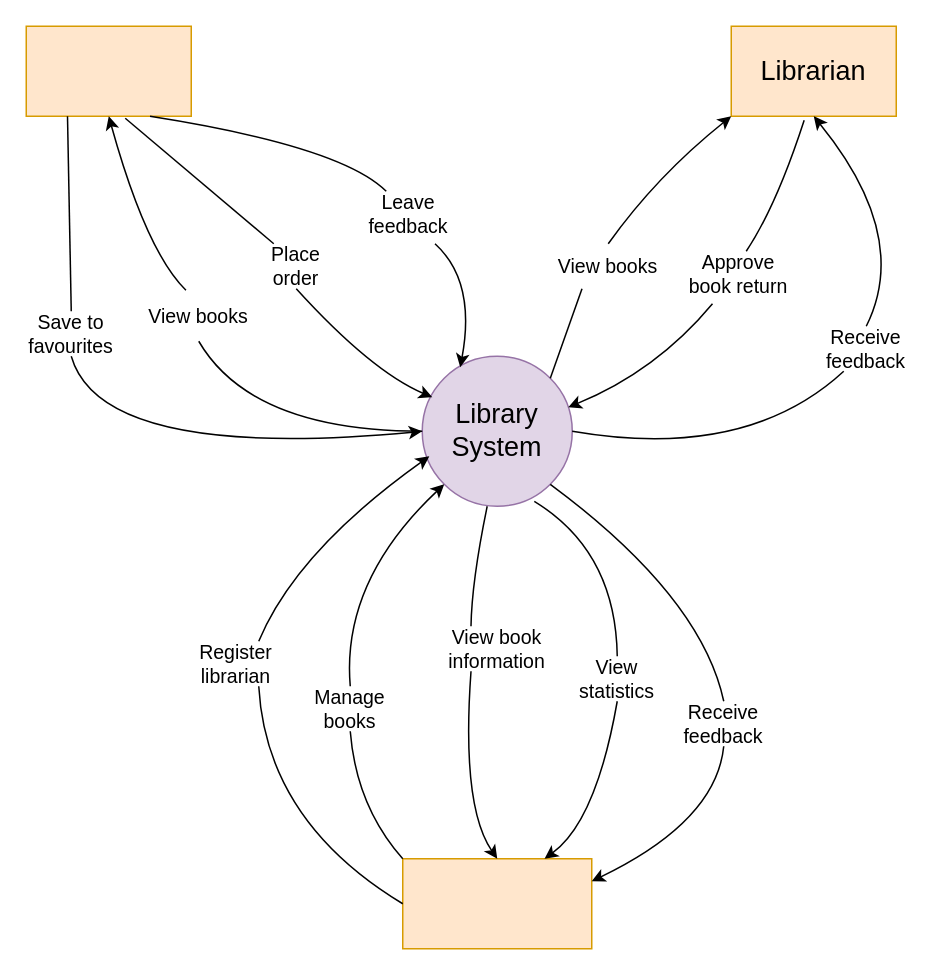
This 938x975 diagram has some shape labels left out. The centre of each missing label's shape, as x and y in pixels:
"Administrator" goes at point 496,903.
"Student" goes at point 108,70.
